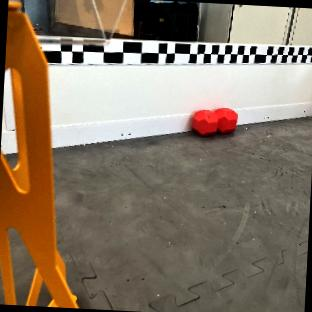V5_RED: (190, 107, 238, 135)
